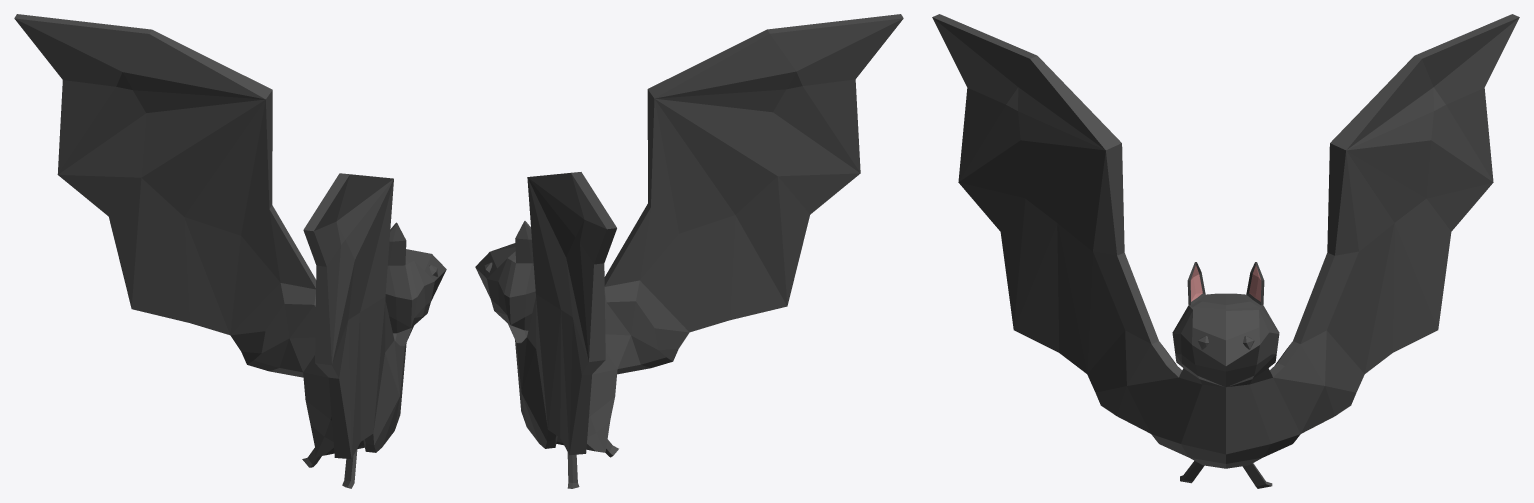
Rendered from Morcegp.fbx.
3 renders of one model, left to right at view 1: azimuth 30°, elevation 25°; view 2: azimuth 150°, elevation 25°; view 3: azimuth 270°, elevation 25°, orthographic.
Parts seen in each view (by area): view 1: Cube.088; view 2: Cube.088; view 3: Cube.088.
Boxes of the visible parts, x1,y1,x2,y2 form: Cube.088: (14, 14, 446, 488); Cube.088: (475, 14, 903, 488); Cube.088: (932, 14, 1519, 488).
Bounding box in the file's own units: 57.7 × 75.9 × 103.
